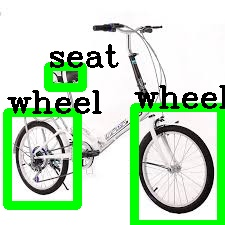seat: (48, 66, 82, 87)
wheel: (134, 107, 221, 224), (7, 112, 77, 205)
